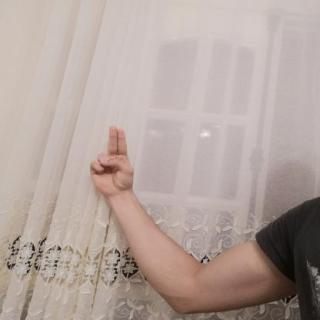TA: (84, 120, 140, 201)
